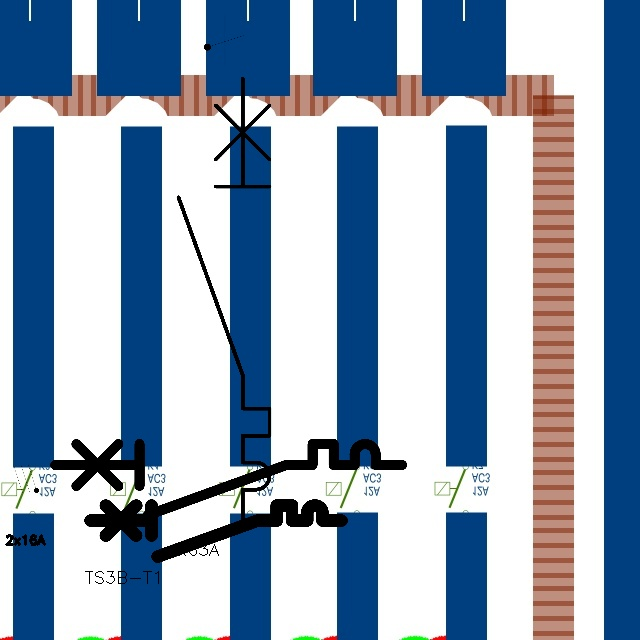interruptor_termomagnetico: (167, 66, 281, 534), (46, 435, 410, 524), (84, 499, 348, 563)
